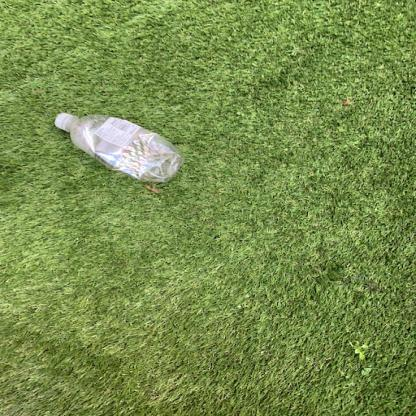trash: (49, 109, 189, 189)
